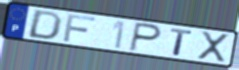1: (111, 20, 127, 50)
D: (25, 9, 64, 41)
F: (62, 13, 97, 43)
P: (127, 21, 164, 54)
T: (169, 27, 195, 57)
X: (196, 30, 231, 63)
